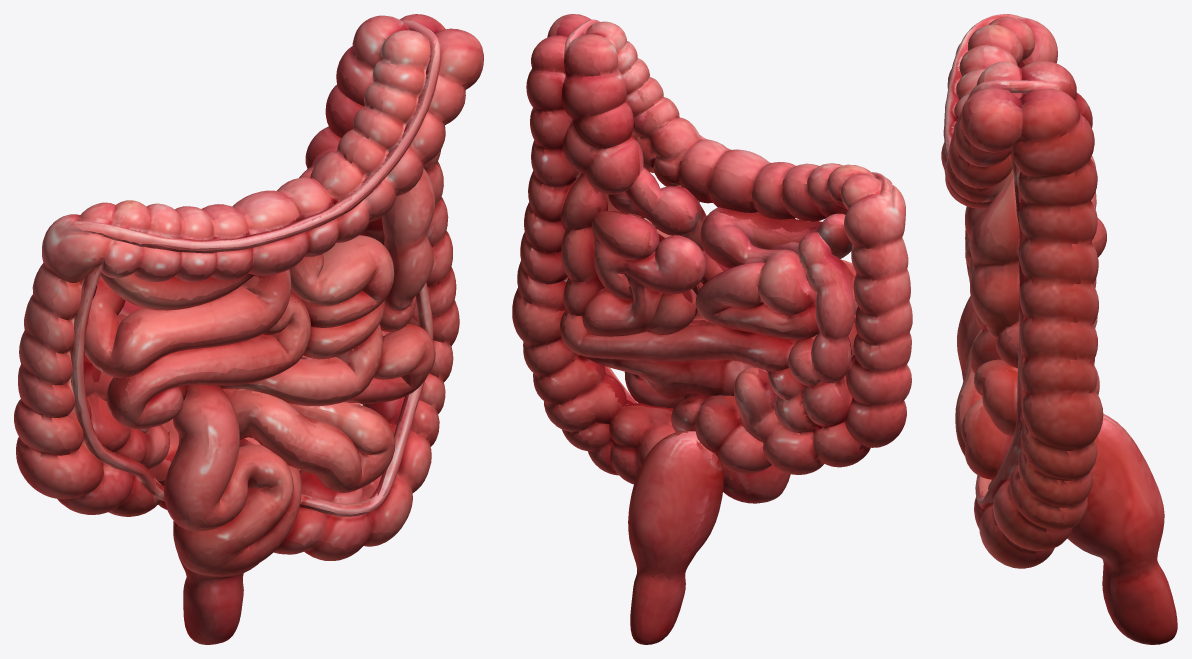
The model's file is small_intestine.glb.
3 renders of one model, left to right at view 1: azimuth 30°, elevation 25°; view 2: azimuth 150°, elevation 25°; view 3: azimuth 270°, elevation 25°, orthographic. The views are drawn at different scales.
Parts seen in each view (by area): view 1: geometry_0; view 2: geometry_0; view 3: geometry_0.
Part boxes in pixels (x1=…): geometry_0: x1=14, y1=14, x2=483, y2=644; geometry_0: x1=512, y1=14, x2=912, y2=644; geometry_0: x1=941, y1=14, x2=1177, y2=644.
Bounding box in the file's own units: 0.7354 × 1 × 0.3361.
Materials: 1 (1 with a texture image).
